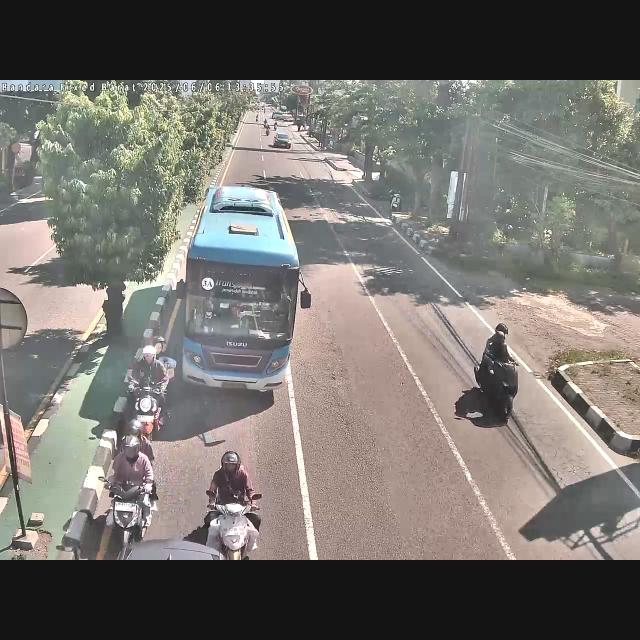Bis: (180, 178, 300, 402)
Mobil: (273, 130, 293, 154)
Motor: (115, 329, 179, 449), (101, 434, 160, 554), (209, 440, 267, 560), (472, 316, 524, 429)
